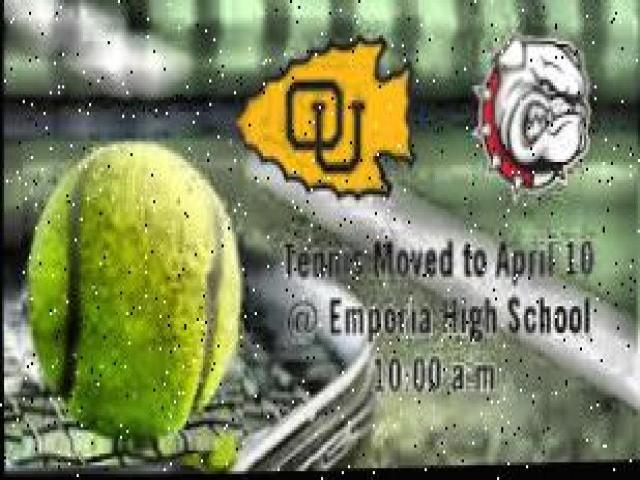tennis-ball: (26, 142, 248, 442)
